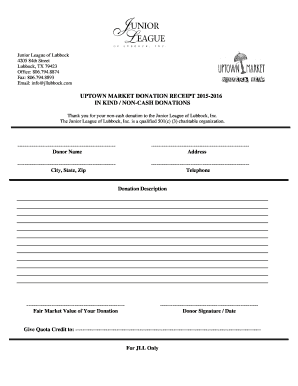textline: (75, 320, 263, 333), (15, 194, 269, 203), (15, 203, 269, 211), (15, 209, 269, 217), (15, 224, 269, 232), (15, 216, 269, 224), (15, 231, 269, 239), (15, 238, 269, 246), (15, 246, 269, 254), (15, 254, 269, 262), (16, 261, 270, 269), (16, 269, 270, 277), (16, 276, 270, 284), (157, 292, 260, 309), (24, 291, 126, 308), (15, 134, 118, 150), (149, 134, 254, 149), (149, 153, 257, 167), (15, 154, 118, 167)
